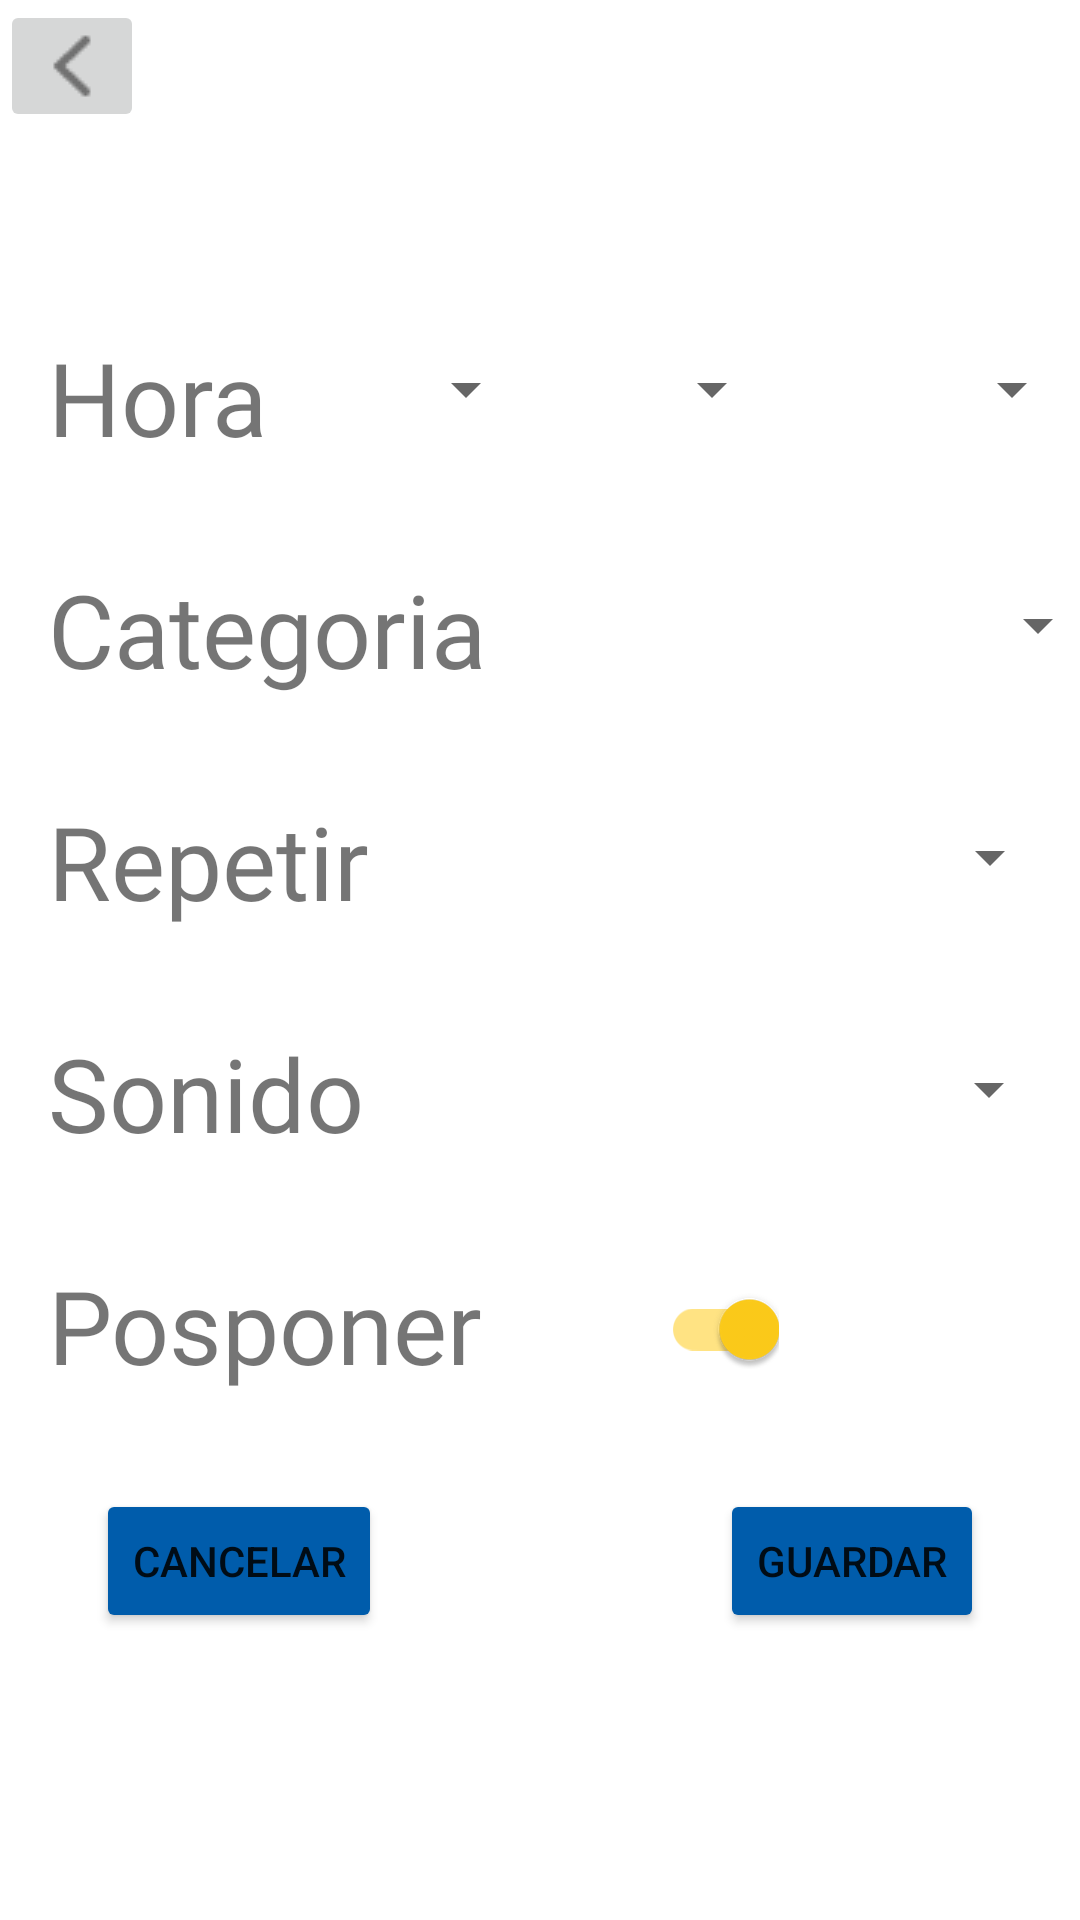

Screen size 1080*1920. Icon name, then its center in pixels as (x=x, y=y):
back: (x=72, y=66)
